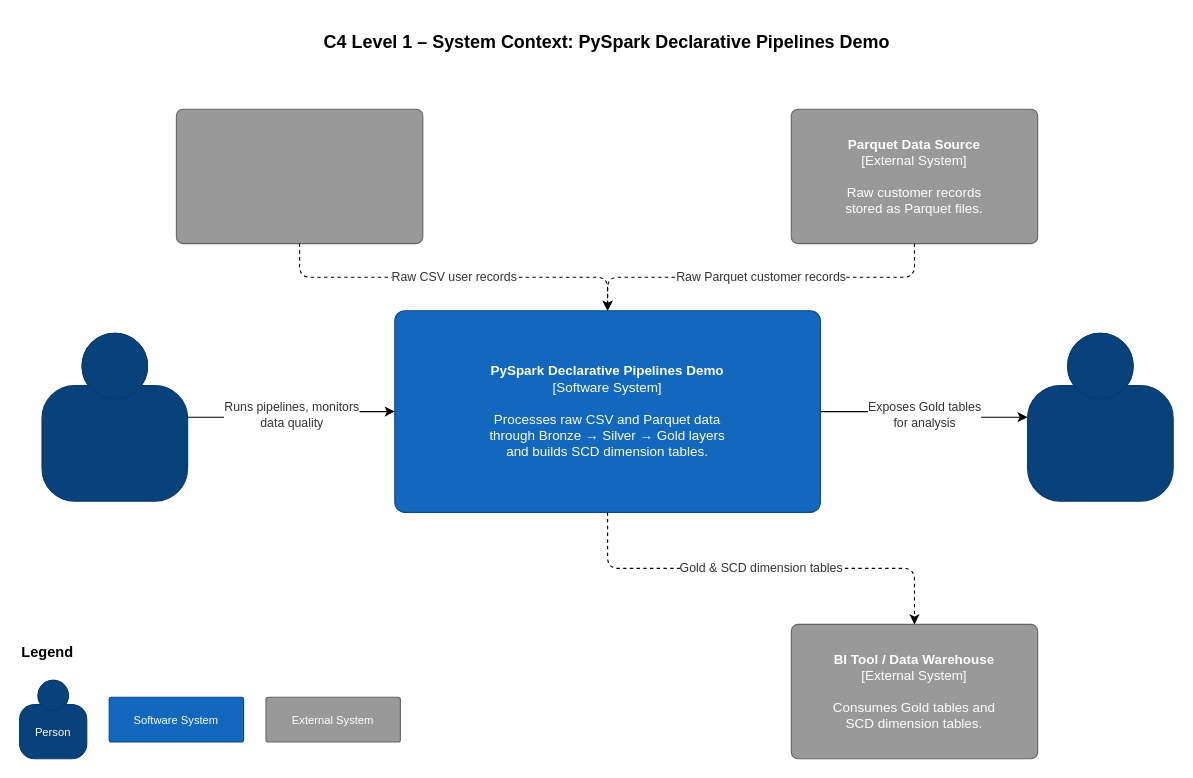
Some shapes in this 1193 by 778 pixel diagram are drawn without their labels. Here are the shapes that lost their labels. From the top down, the centre of each, then its label:
the point at 299,176: CSV Data Source [External System] Raw user records stored as flat CSV files.
the point at 114,416: Data Engineer [Person] Designs, runs, and monitors the data pipelines.
the point at 1099,416: Data Analyst [Person] Queries aggregated Gold tables for reporting.
